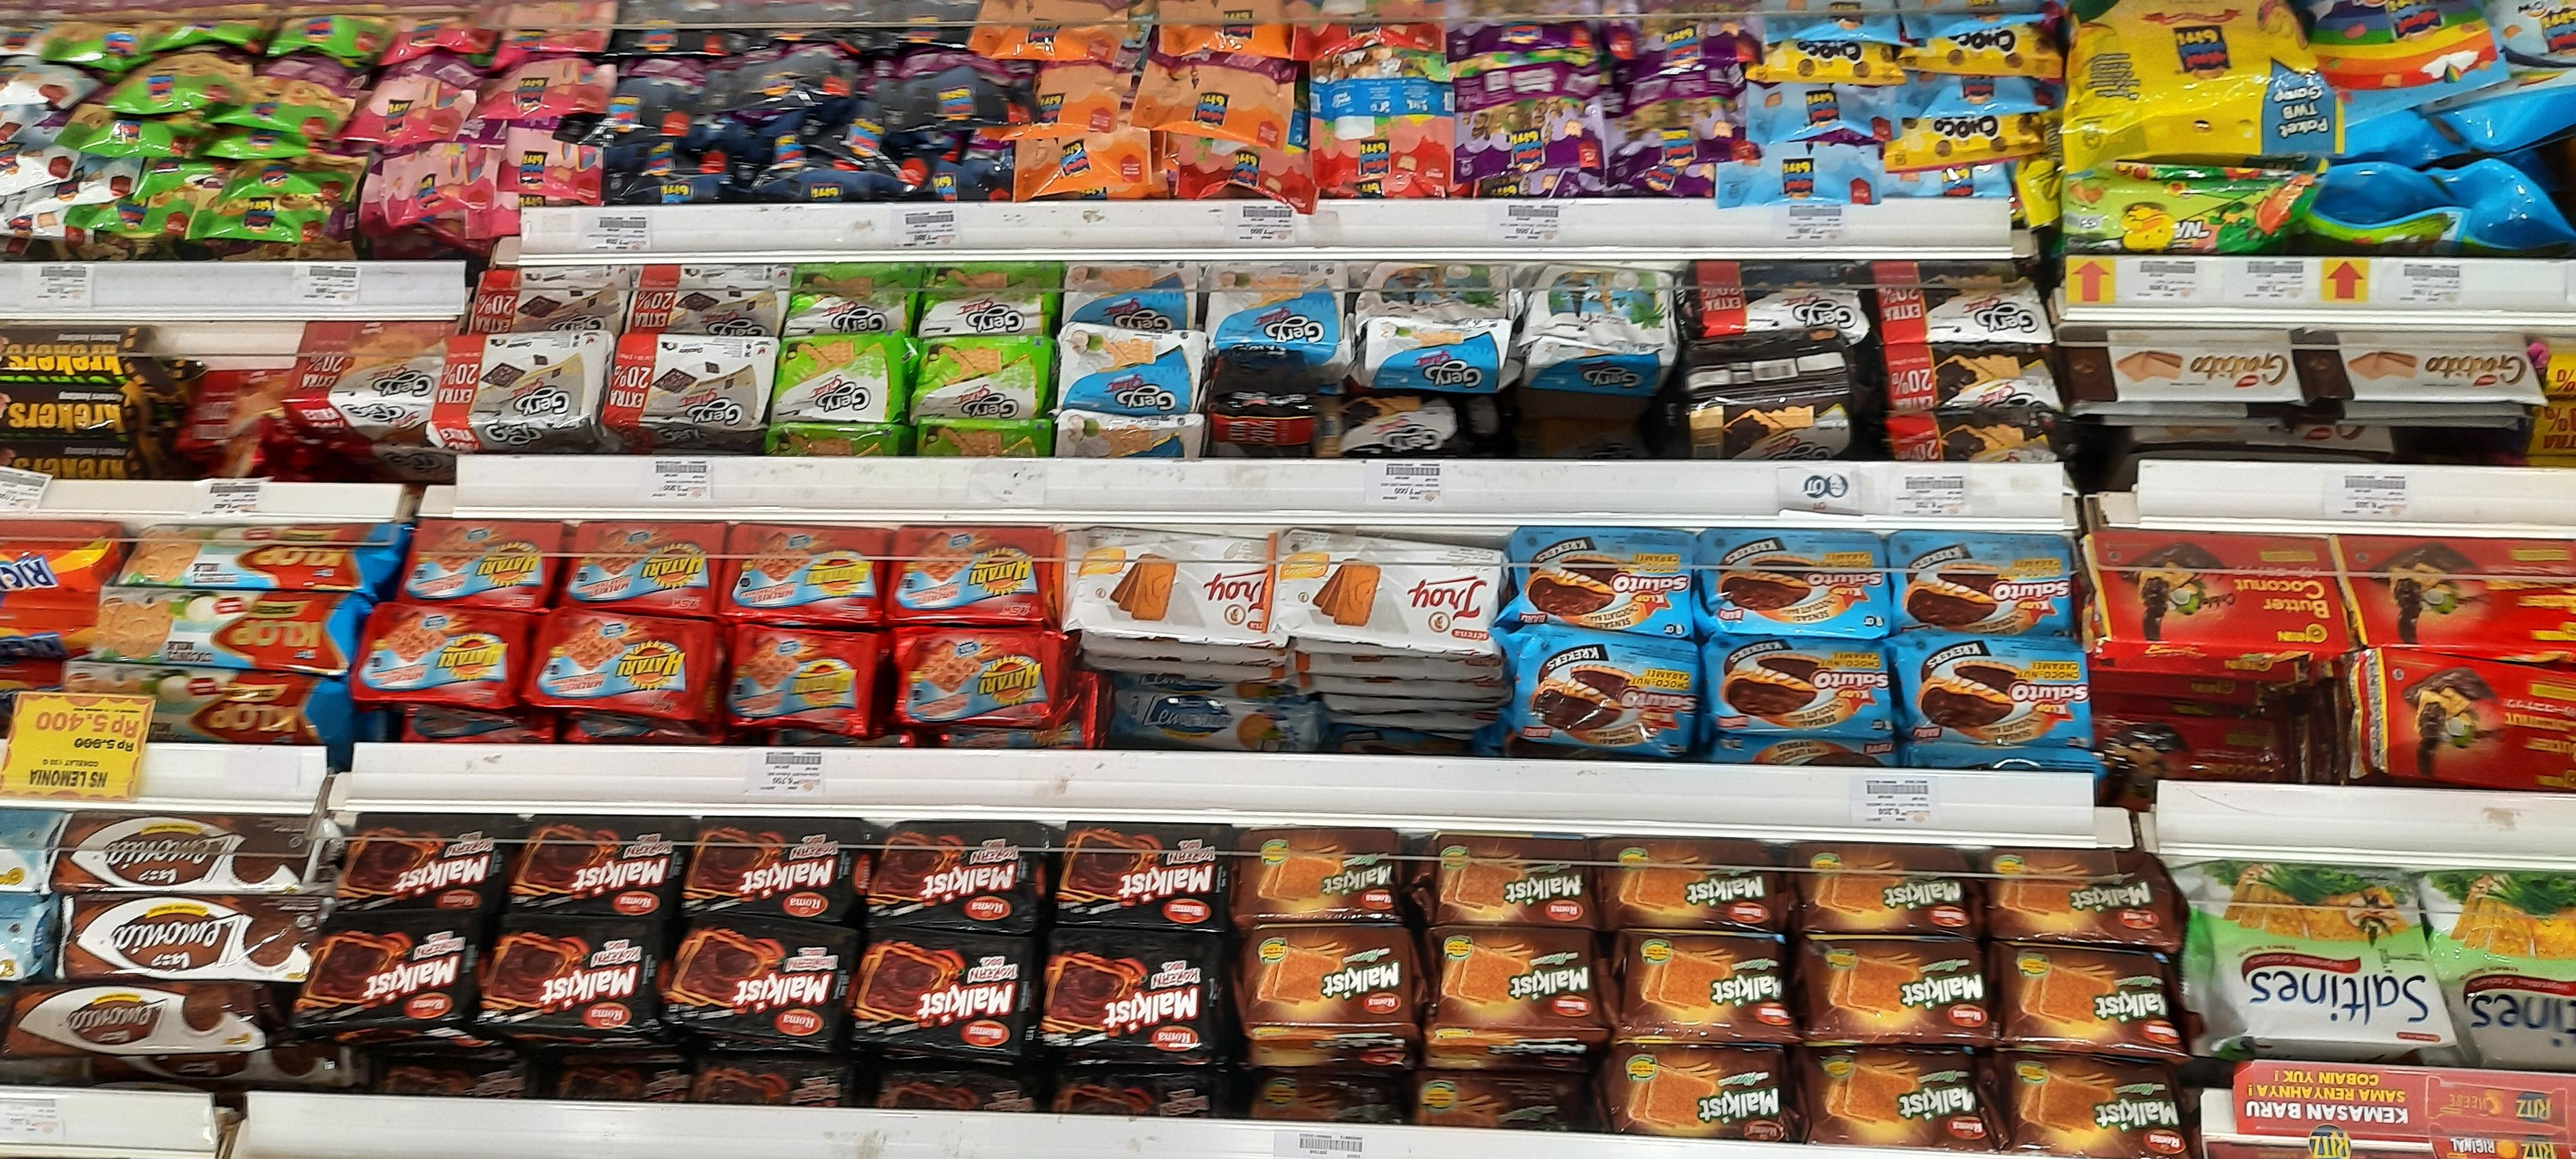90101225202101: (1866, 259, 2052, 343), (1684, 259, 1866, 335), (1879, 345, 2060, 412), (1318, 394, 1465, 458)
90101225209100: (1058, 328, 1207, 414), (1207, 263, 1345, 348), (1362, 318, 1508, 391), (1065, 261, 1198, 330)
90101225212101: (912, 335, 1050, 420), (774, 335, 904, 424), (920, 263, 1058, 335), (785, 259, 918, 333)
90101225218101: (430, 330, 611, 424), (605, 337, 774, 424), (626, 264, 792, 337), (470, 264, 631, 330)
90101225226101: (283, 322, 440, 401)
HatariMalkistSugarCrackers: (534, 617, 710, 716), (889, 524, 1060, 622), (721, 522, 887, 622), (889, 627, 1060, 724), (352, 609, 522, 703), (560, 522, 723, 612), (399, 522, 559, 609)
KlopCoconutMilkCrackers: (97, 586, 356, 668), (115, 524, 399, 586)
KlopSalutoChocoNutCaramel: (1502, 627, 1700, 758), (1889, 637, 2090, 747), (1500, 525, 1694, 634), (1695, 532, 1891, 635), (1700, 634, 1894, 737), (1888, 529, 2072, 637)
NabatiGatitoLidahKucingCokelat: (2060, 328, 2305, 402), (2298, 330, 2546, 401)
NissinButterCoconut: (2083, 530, 2346, 652), (2357, 650, 2576, 790), (2344, 537, 2576, 647)
NissinLemoniaChocolate: (44, 814, 329, 895), (0, 975, 283, 1056), (59, 898, 325, 980)
RomaMalkistAbon: (1996, 944, 2183, 1049), (1801, 1046, 1993, 1148), (1989, 845, 2180, 946), (1999, 1057, 2190, 1156), (1608, 932, 1792, 1034), (1794, 947, 1993, 1041), (1791, 842, 1981, 936), (1431, 929, 1603, 1031), (1598, 836, 1784, 929), (1603, 1046, 1786, 1141), (1239, 928, 1410, 1026), (1234, 827, 1403, 923), (1429, 834, 1590, 926)
RomaMalkistKoreanBBQ: (1033, 932, 1224, 1057), (664, 921, 851, 1041), (849, 932, 1028, 1057), (473, 921, 662, 1034), (291, 919, 475, 1024), (866, 819, 1043, 928), (1055, 821, 1229, 931), (501, 814, 683, 918), (680, 819, 861, 918), (332, 813, 506, 914)
SaltinesVegetableCrackers: (2185, 864, 2446, 1044)
SerenaCaramelisedBiscuitTroy: (1267, 529, 1505, 644), (1060, 530, 1270, 640)
